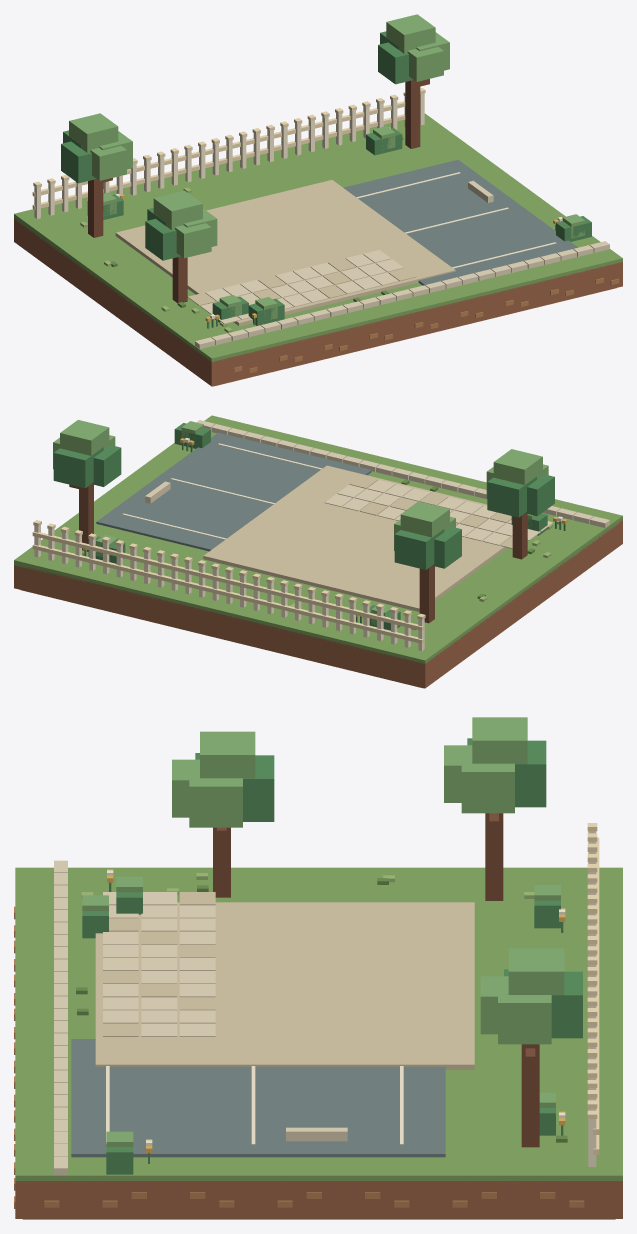
Rendered from land.glb.
The picture shows the model from 3 angles, top to bottom: view 1: azimuth 30°, elevation 25°; view 2: azimuth 150°, elevation 25°; view 3: azimuth 270°, elevation 25°; orthographic projection. The views are drawn at different scales.
Parts seen in each view (by area): view 1: Grass_top_002, Walkway_036, Earth_block_001, Parking_pad_035, Fence_rail_178, Voxel_canopy_103, Voxel_canopy_110, Voxel_canopy_117, Fence_rail_179, Voxel_canopy_119, Voxel_canopy_115, Tree_trunk_106 (+6 smaller); view 2: Grass_top_002, Walkway_036, Earth_block_001, Parking_pad_035, Fence_rail_179, Fence_rail_178, Voxel_canopy_111, Voxel_canopy_104, Voxel_canopy_118, Voxel_canopy_110, Voxel_canopy_117, Voxel_canopy_103 (+6 smaller); view 3: Grass_top_002, Walkway_036, Parking_pad_035, Earth_block_001, Voxel_canopy_102, Voxel_canopy_109, Voxel_canopy_116, Voxel_canopy_110, Voxel_canopy_117, Voxel_canopy_103, Voxel_canopy_104, Voxel_canopy_118 (+12 smaller).
Boxes of the visible parts, bbox=[...] form: Grass_top_002: bbox=[14, 113, 622, 361]; Walkway_036: bbox=[115, 180, 455, 326]; Earth_block_001: bbox=[14, 218, 622, 386]; Parking_pad_035: bbox=[343, 159, 577, 285]; Fence_rail_178: bbox=[32, 114, 405, 209]; Voxel_canopy_103: bbox=[69, 113, 118, 152]; Voxel_canopy_110: bbox=[386, 14, 435, 53]; Voxel_canopy_117: bbox=[153, 190, 202, 229]; Fence_rail_179: bbox=[32, 101, 405, 196]; Voxel_canopy_119: bbox=[175, 223, 211, 258]; Voxel_canopy_115: bbox=[145, 218, 180, 260]; Tree_trunk_106: bbox=[405, 80, 420, 148]; Grass_top_002: bbox=[14, 415, 622, 664]; Walkway_036: bbox=[203, 465, 512, 611]; Earth_block_001: bbox=[14, 519, 622, 688]; Parking_pad_035: bbox=[96, 432, 371, 551]; Fence_rail_179: bbox=[32, 531, 423, 630]; Fence_rail_178: bbox=[32, 544, 423, 643]; Voxel_canopy_111: bbox=[53, 447, 103, 488]; Voxel_canopy_104: bbox=[394, 529, 444, 569]; Voxel_canopy_118: bbox=[487, 476, 536, 517]; Voxel_canopy_110: bbox=[60, 420, 109, 455]; Voxel_canopy_117: bbox=[493, 449, 542, 484]; Voxel_canopy_103: bbox=[400, 501, 449, 537]; Grass_top_002: bbox=[15, 867, 622, 1183]; Walkway_036: bbox=[95, 902, 474, 1069]; Parking_pad_035: bbox=[71, 1039, 445, 1157]; Earth_block_001: bbox=[15, 1181, 622, 1218]; Voxel_canopy_102: bbox=[461, 749, 514, 813]; Voxel_canopy_109: bbox=[498, 980, 551, 1044]; Voxel_canopy_116: bbox=[189, 764, 242, 827]; Voxel_canopy_110: bbox=[508, 948, 564, 995]; Voxel_canopy_117: bbox=[200, 731, 255, 778]; Voxel_canopy_103: bbox=[472, 717, 527, 764]; Voxel_canopy_104: bbox=[515, 740, 546, 807]; Voxel_canopy_118: bbox=[243, 755, 274, 821].
Bounding box in the file's own units: 15.03 × 5.24 × 12.53.
